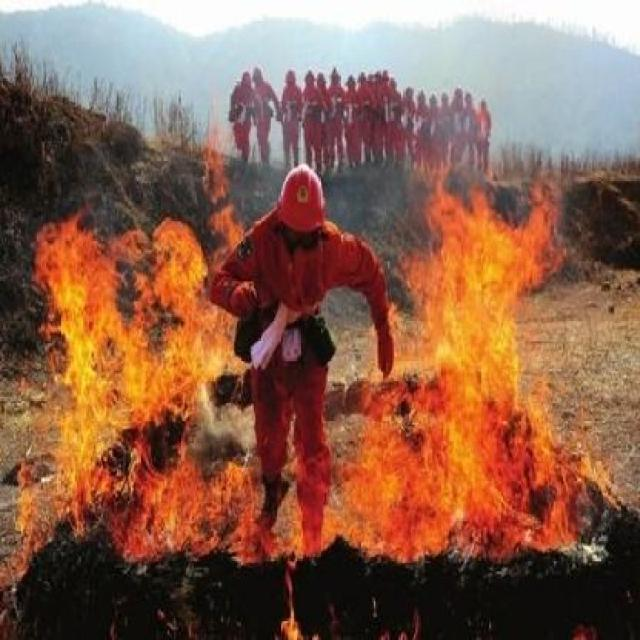Fire: (20, 120, 278, 586), (348, 168, 604, 579)
